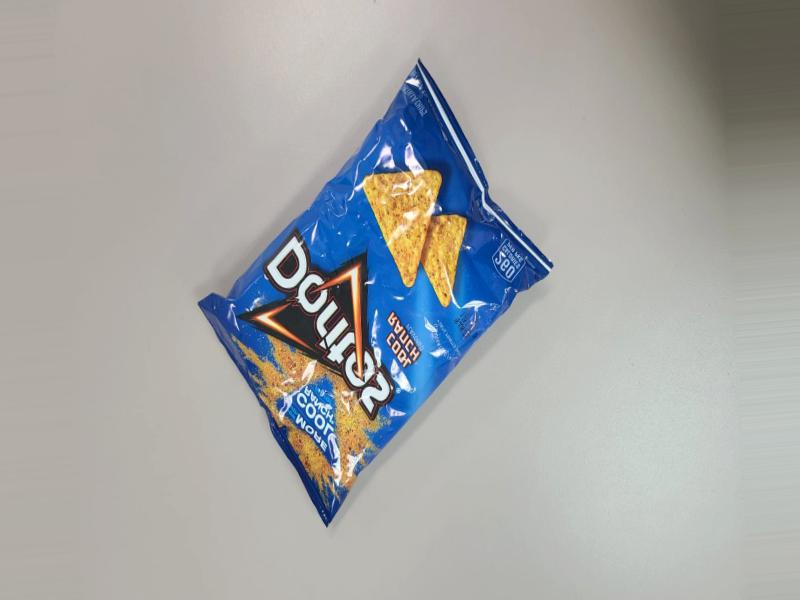doritos: (213, 86, 536, 486)
